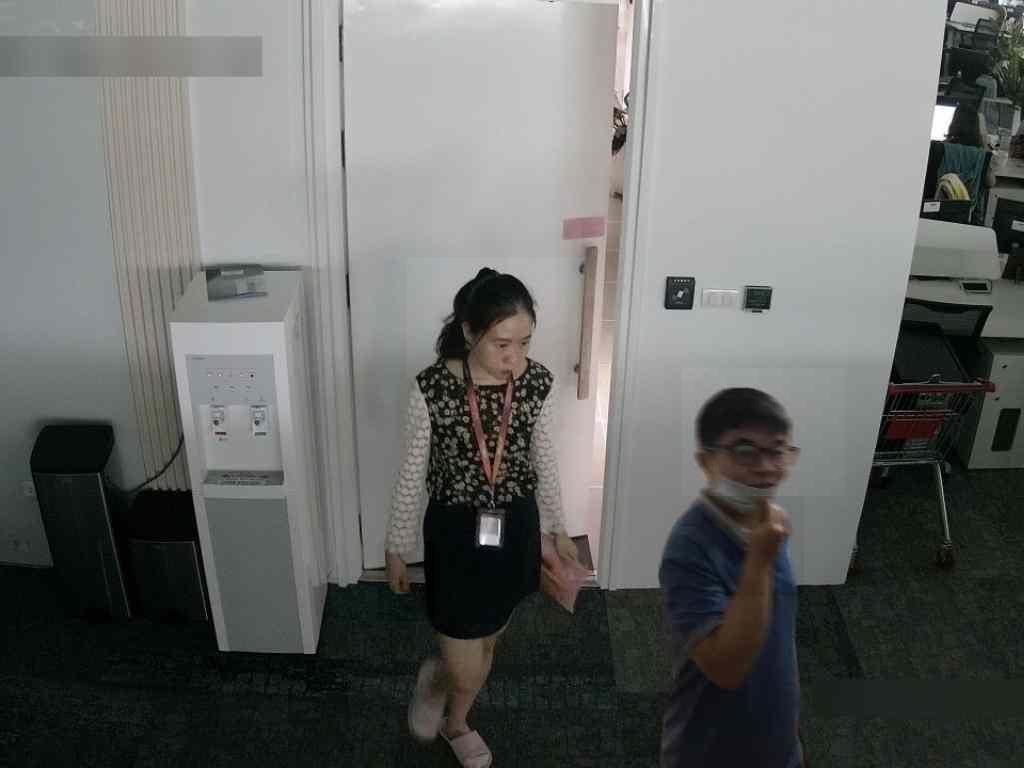no_apron: (723, 496, 804, 596), (378, 541, 436, 621)
no_gloves: (406, 258, 590, 378), (683, 368, 846, 496)
no_hairnet: (702, 418, 800, 524), (465, 297, 532, 380)
